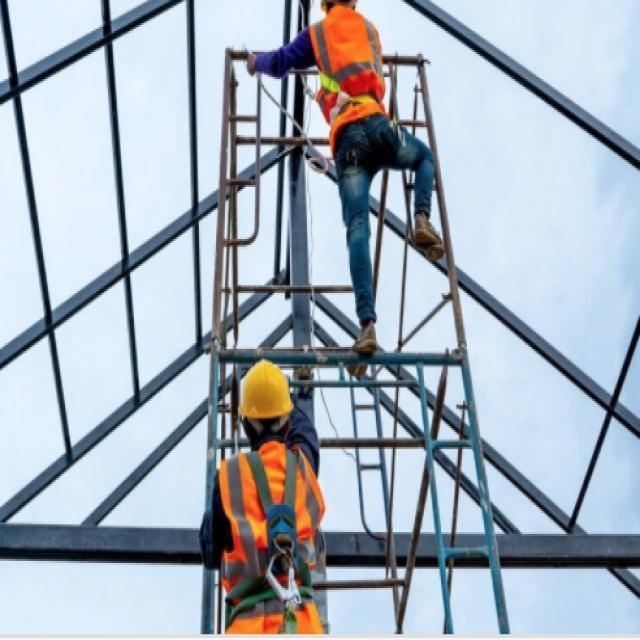Arnes_seguridad: (221, 446, 320, 630)
